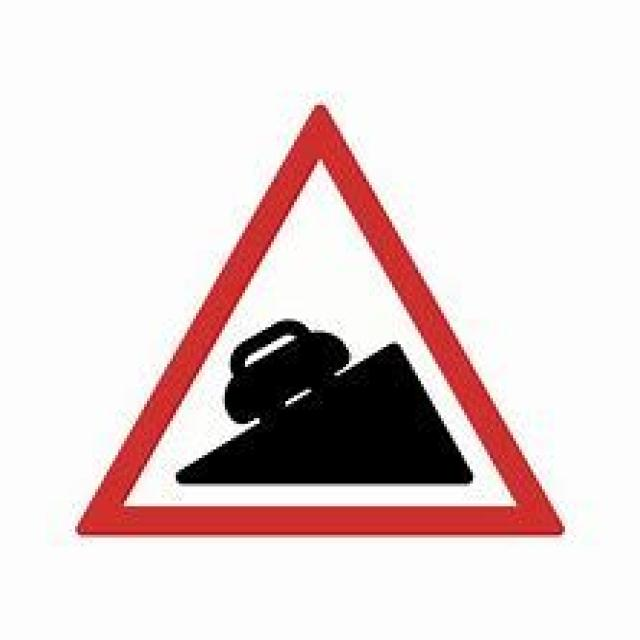STEEP_ASCENT: (77, 88, 567, 553)
